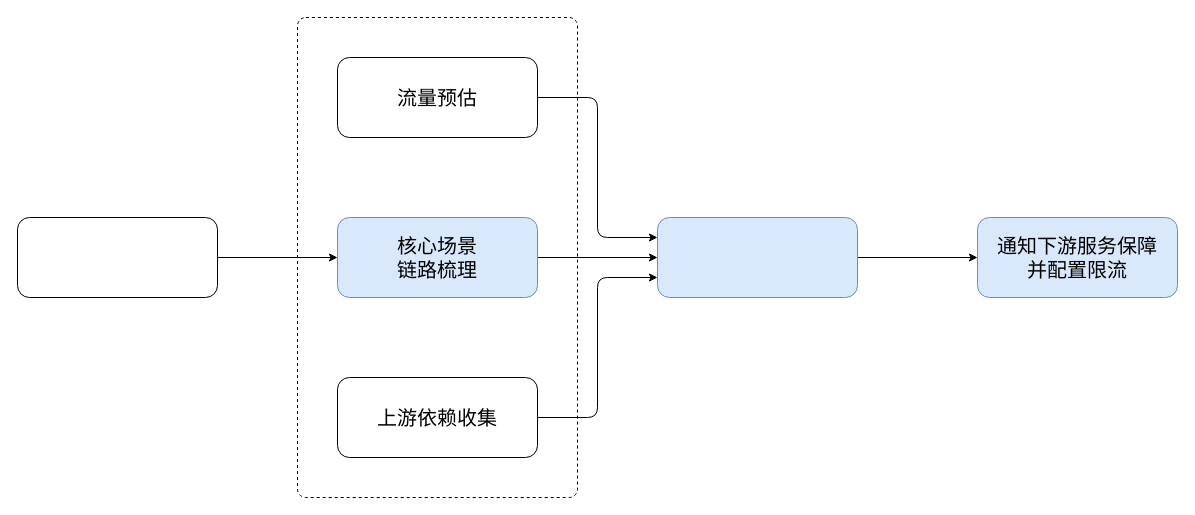
The diagram is 1195 pixels wide and 515 high, and some of its shapes have lost their labels. Each missing label, with the box of its shape:
对下游服务的 流量预估: (656, 216, 858, 298)
核心场景确认: (16, 216, 218, 298)
